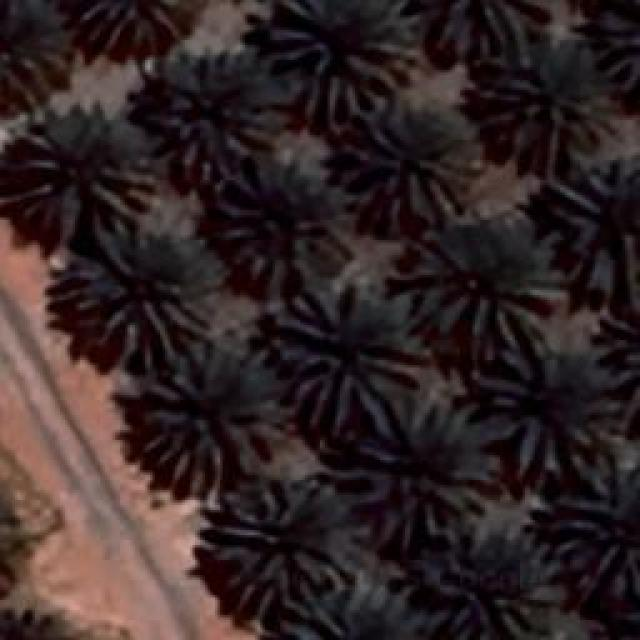PalmTree: (132, 342, 290, 496), (275, 278, 425, 432), (54, 222, 208, 368), (398, 215, 560, 343), (202, 477, 340, 615), (5, 100, 146, 234), (338, 92, 478, 226), (472, 40, 612, 168), (480, 342, 612, 473), (220, 160, 355, 288), (147, 44, 275, 178), (422, 528, 568, 638), (351, 422, 484, 528), (280, 0, 408, 100), (552, 452, 638, 592), (552, 158, 638, 298), (573, 0, 640, 120), (0, 0, 75, 98), (415, 0, 533, 58), (74, 0, 188, 48), (285, 595, 405, 640), (593, 304, 640, 416), (0, 601, 83, 640), (0, 480, 31, 582)
